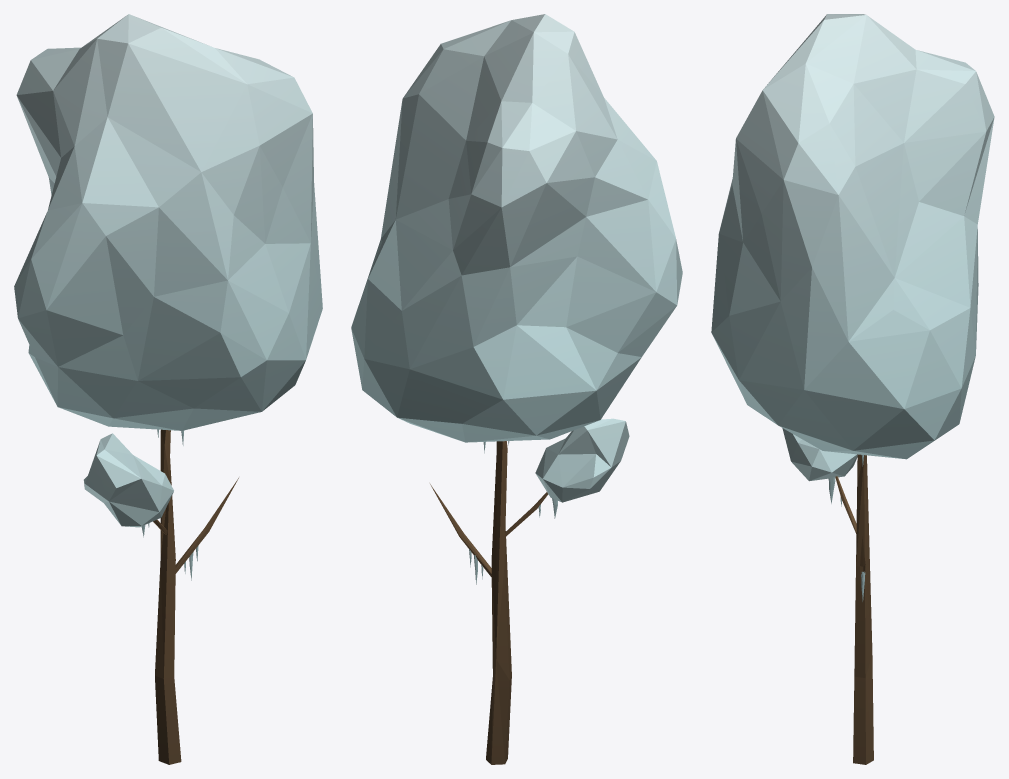
Rendered from Winter_Tree_08.glb.
3 renders of one model, left to right at view 1: azimuth 30°, elevation 25°; view 2: azimuth 150°, elevation 25°; view 3: azimuth 270°, elevation 25°, orthographic. The views are drawn at different scales.
Parts seen in each view (by area): view 1: Winter_Tree_08_LOD0; view 2: Winter_Tree_08_LOD0; view 3: Winter_Tree_08_LOD0.
Part boxes in pixels (x1=…): Winter_Tree_08_LOD0: x1=14, y1=14, x2=322, y2=764; Winter_Tree_08_LOD0: x1=351, y1=14, x2=682, y2=764; Winter_Tree_08_LOD0: x1=711, y1=14, x2=994, y2=764.
Size of what is drawn, in the model's own units: 2.71 by 6.61 by 2.34.
Materials: 1 (1 with a texture image).
